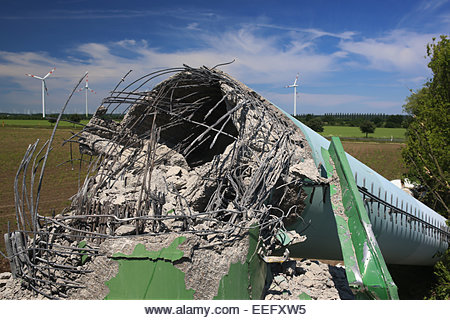faulty: (51, 63, 397, 280)
